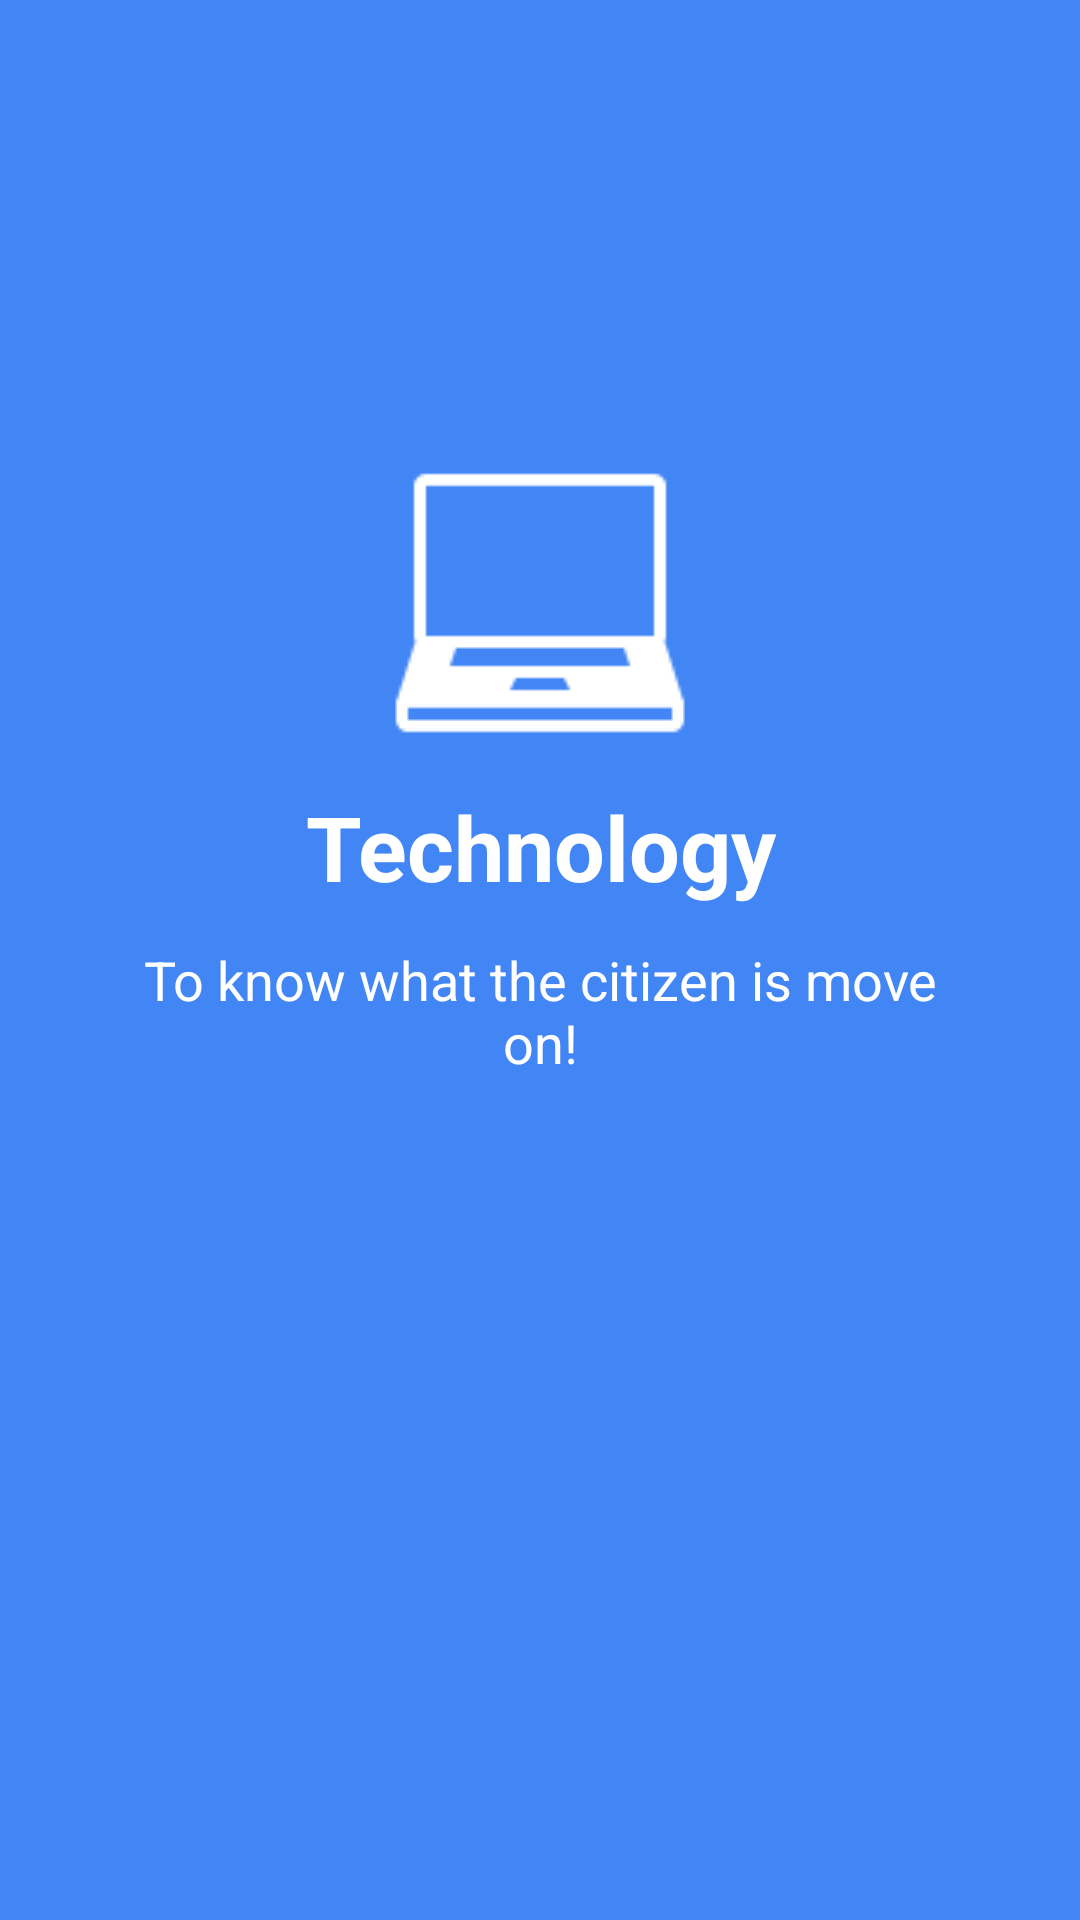

Locate icon controls on the screen. Image size 1080x1920, boxes as (x1, y1, x2, y2).
laptop: (395, 473, 685, 733)
